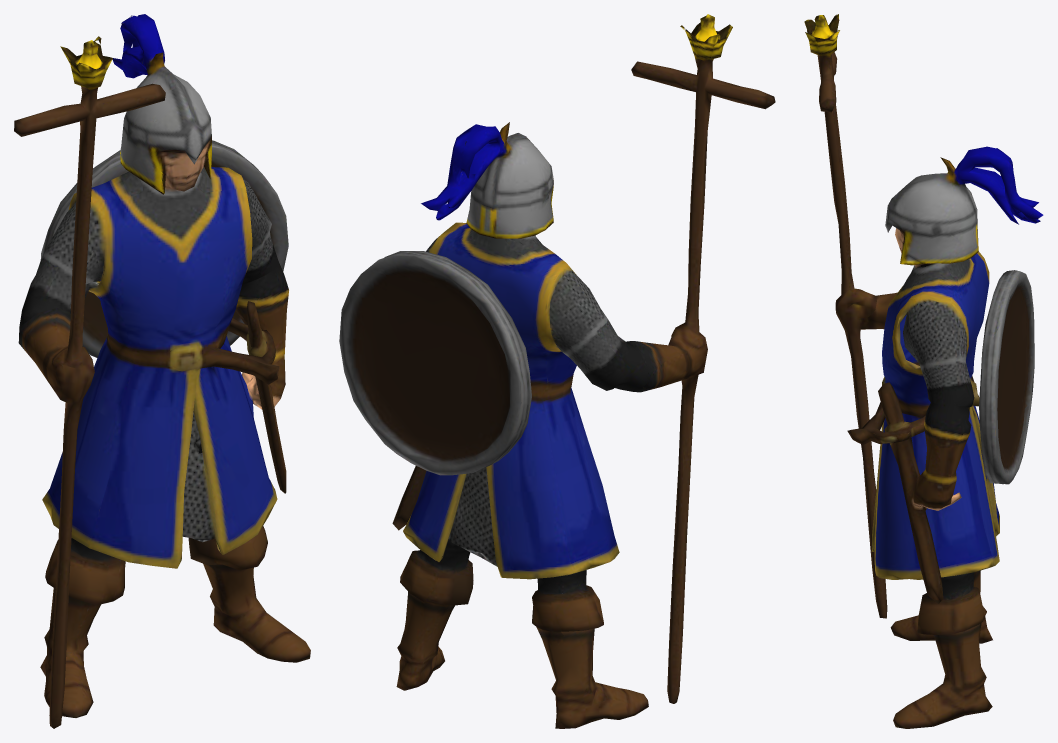
File: standard_bearer.glb
3 views of the same model, side by side, from view 1: azimuth 30°, elevation 25°; view 2: azimuth 150°, elevation 25°; view 3: azimuth 270°, elevation 25° (orthographic). The views are drawn at different scales.
Parts seen in each view (by area): view 1: world; view 2: world; view 3: world.
Boxes of the visible parts, x1,y1,x2,y2 form: world: (14,14,310,728); world: (339,14,775,728); world: (804,14,1043,728).
Size of the model in its own units: 0.5352 by 0.9951 by 0.3566.
1 material, 1 textured.
